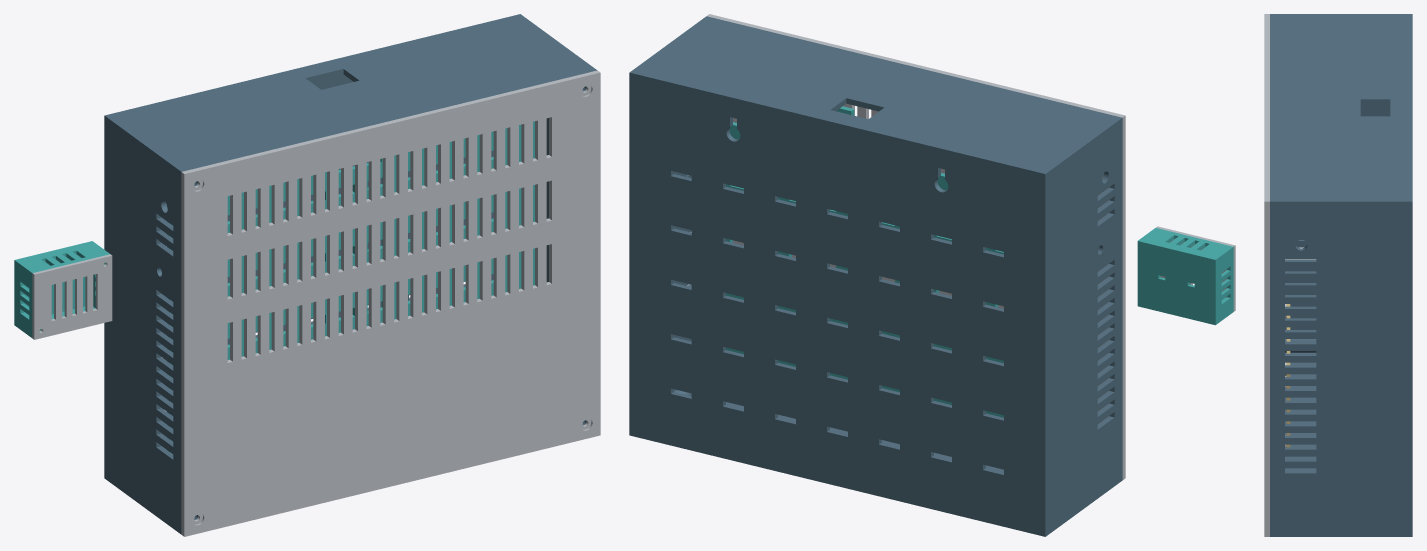
Rendered from assembly.glb.
3 views of the same model, side by side, from view 1: azimuth 30°, elevation 25°; view 2: azimuth 150°, elevation 25°; view 3: azimuth 270°, elevation 25° (orthographic). The views are drawn at different scales.
Visible parts, largest first — view 1: lid, base, deck, bme680_pod_lid, bme680_pod_base; view 2: base, bme680_pod_base, lid, deck; view 3: base, lid, radar_carrier.
Boxes of the visible parts, x1=… form: lid: x1=181, y1=70, x2=600, y2=536; base: x1=104, y1=14, x2=597, y2=534; deck: x1=167, y1=121, x2=534, y2=454; bme680_pod_lid: x1=32, y1=254, x2=112, y2=339; bme680_pod_base: x1=14, y1=241, x2=109, y2=337; base: x1=629, y1=16, x2=1122, y2=536; bme680_pod_base: x1=1137, y1=228, x2=1233, y2=325; lid: x1=707, y1=14, x2=1125, y2=479; deck: x1=726, y1=106, x2=1003, y2=417; base: x1=1270, y1=14, x2=1412, y2=536; lid: x1=1264, y1=14, x2=1286, y2=536; radar_carrier: x1=1286, y1=304, x2=1290, y2=447.
Size of the model in its own units: 0.315 by 0.2 by 0.08.
